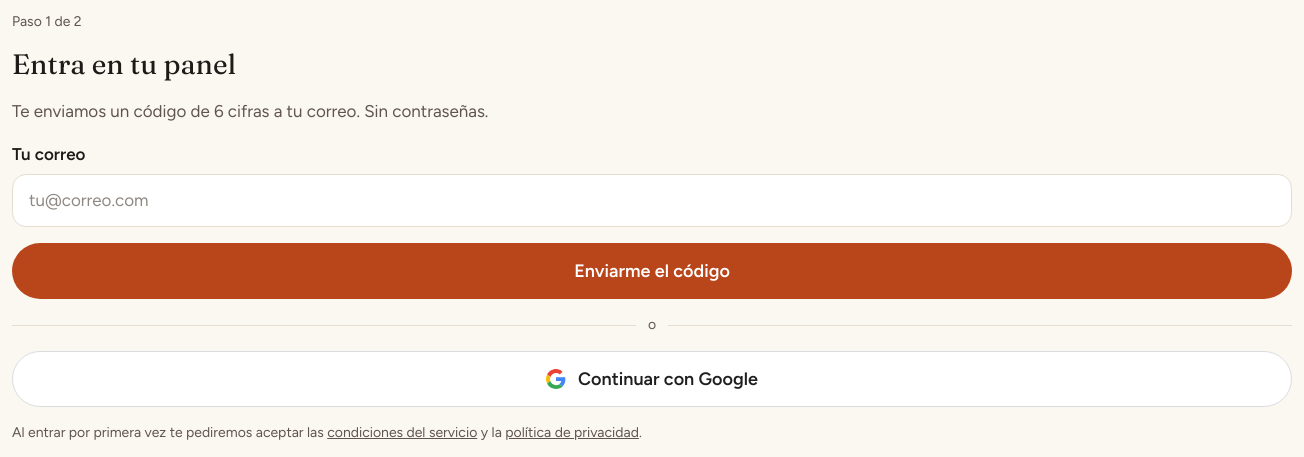
FormularioEntrar › «Cambiar correo» vuelve al paso 1 con el correo puesto
Type "Bar@x.es" into the field labelled "Tu correo". click: (652, 201)
box: [12,174,1292,227]
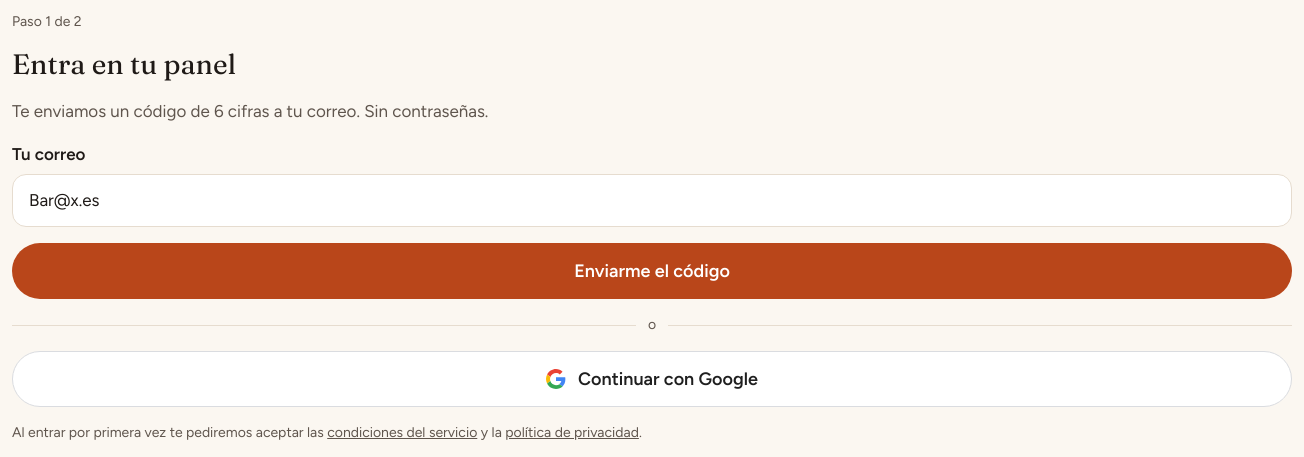
Click the button "Enviarme el código". click: (652, 271)
box: [12,243,1292,299]
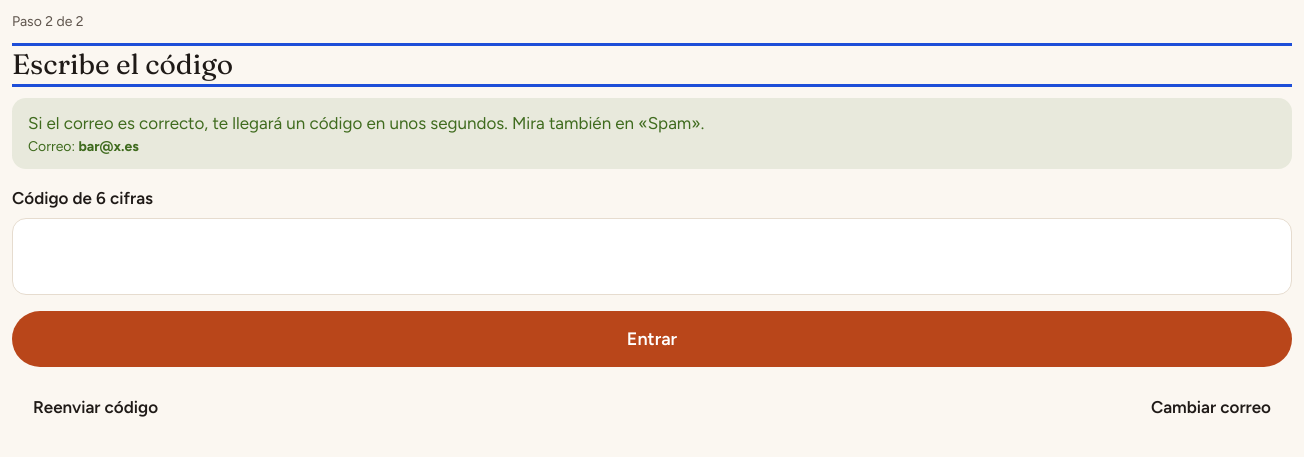
Result: the button "Cambiar correo" is shown
Click the button "Cambiar correo". click: (1211, 407)
box: [1130,383,1292,431]
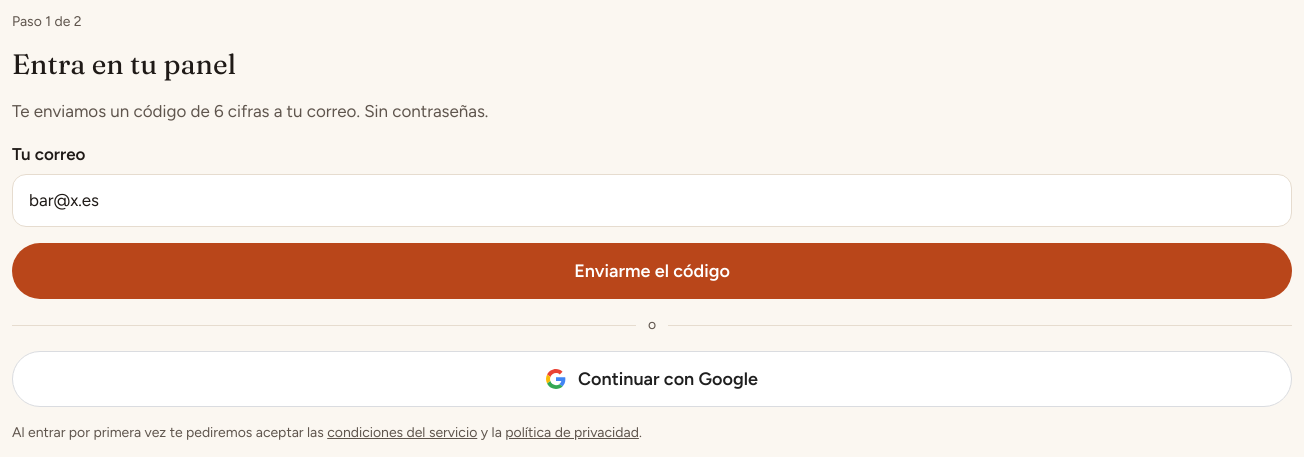
Result: the heading "Entra en tu panel" is shown at [12,47,236,81]
Result: the field labelled "Tu correo" holds "bar@x.es" at [12,174,1292,227]
